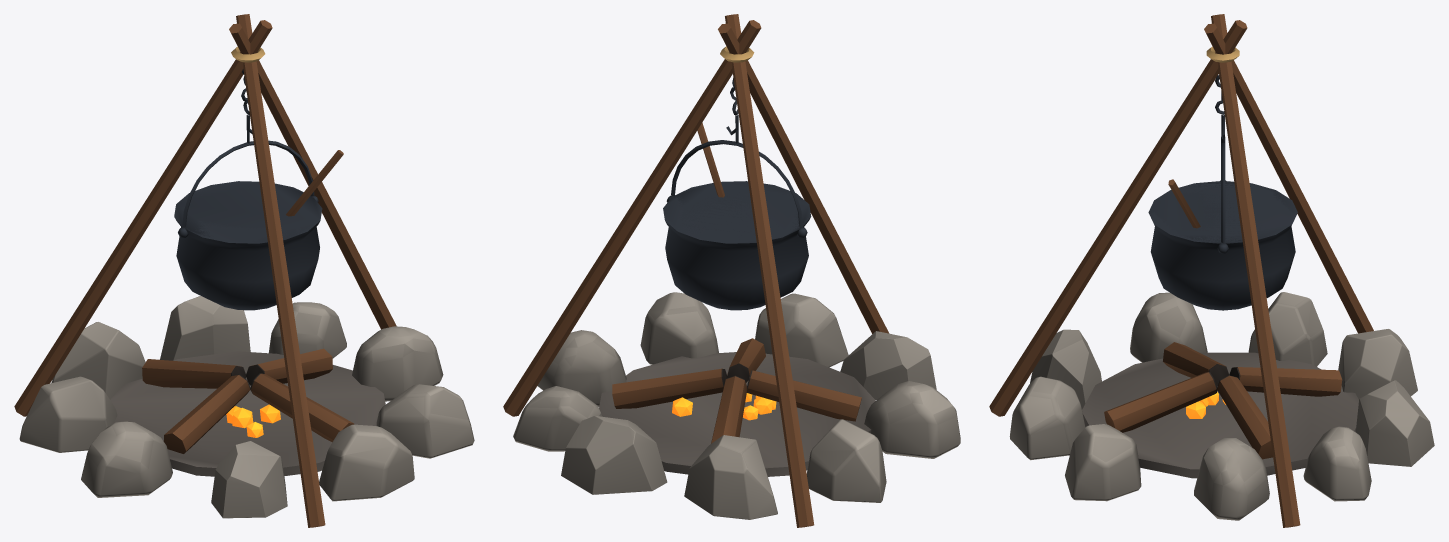
File: hearth.glb
3 views of the same model, side by side, from view 1: azimuth 30°, elevation 25°; view 2: azimuth 150°, elevation 25°; view 3: azimuth 270°, elevation 25° (orthographic).
Visible parts, largest first — view 1: Hearth Stone, Hearth Log, Hearth Iron, Hearth Ash, Hearth Ember; view 2: Hearth Stone, Hearth Log, Hearth Iron, Hearth Ash, Hearth Ember; view 3: Hearth Stone, Hearth Log, Hearth Iron, Hearth Ash.
Part boxes in pixels (x1=…): Hearth Stone: x1=19, y1=296, x2=474, y2=518; Hearth Log: x1=14, y1=14, x2=396, y2=527; Hearth Iron: x1=174, y1=69, x2=322, y2=310; Hearth Ash: x1=110, y1=351, x2=385, y2=476; Hearth Ember: x1=226, y1=404, x2=280, y2=437; Hearth Stone: x1=513, y1=292, x2=960, y2=519; Hearth Log: x1=503, y1=14, x2=889, y2=527; Hearth Iron: x1=663, y1=78, x2=811, y2=310; Hearth Ash: x1=599, y1=352, x2=875, y2=476; Hearth Ember: x1=672, y1=393, x2=776, y2=420; Hearth Stone: x1=1009, y1=292, x2=1434, y2=520; Hearth Log: x1=989, y1=14, x2=1373, y2=527; Hearth Iron: x1=1148, y1=75, x2=1297, y2=310; Hearth Ash: x1=1082, y1=352, x2=1358, y2=478.
Bounding box in the file's own units: 1.39 × 1.43 × 1.38.
